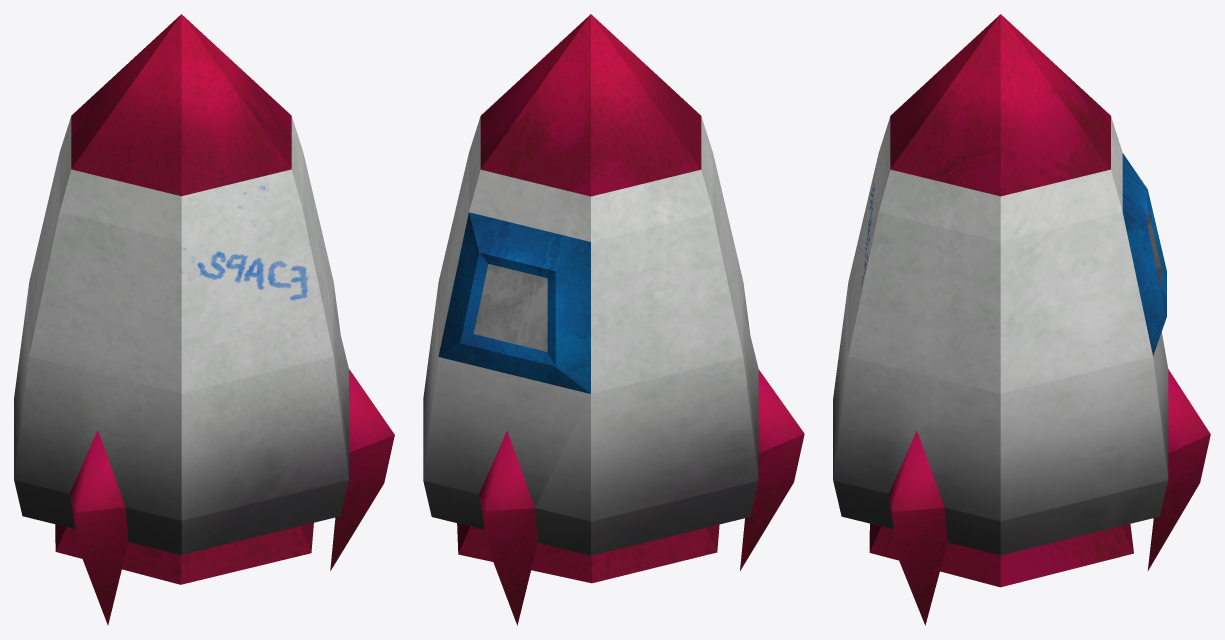
File: spaceship.fbx
3 renders of one model, left to right at view 1: azimuth 30°, elevation 25°; view 2: azimuth 150°, elevation 25°; view 3: azimuth 270°, elevation 25°, orthographic.
Visible parts, largest first — view 1: polySurface12, polySurface10; view 2: polySurface12; view 3: polySurface12, polySurface10.
Part boxes in pixels (x1,y1,x2,y2): polySurface12: [14, 14, 394, 625]; polySurface10: [181, 318, 348, 554]; polySurface12: [423, 14, 804, 625]; polySurface12: [833, 14, 1210, 625]; polySurface10: [833, 249, 856, 479].
Bounding box in the file's own units: 4.28 × 6.8 × 4.17.
Materials: 2 (2 with a texture image).
